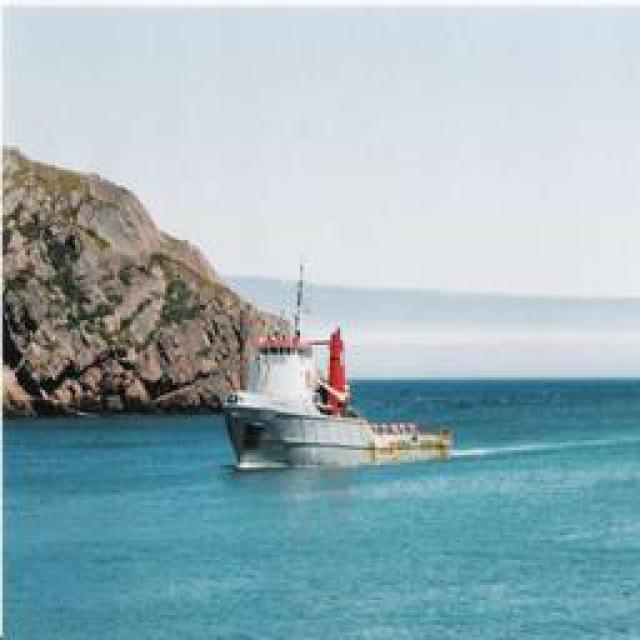Ship: (221, 275, 449, 478)
